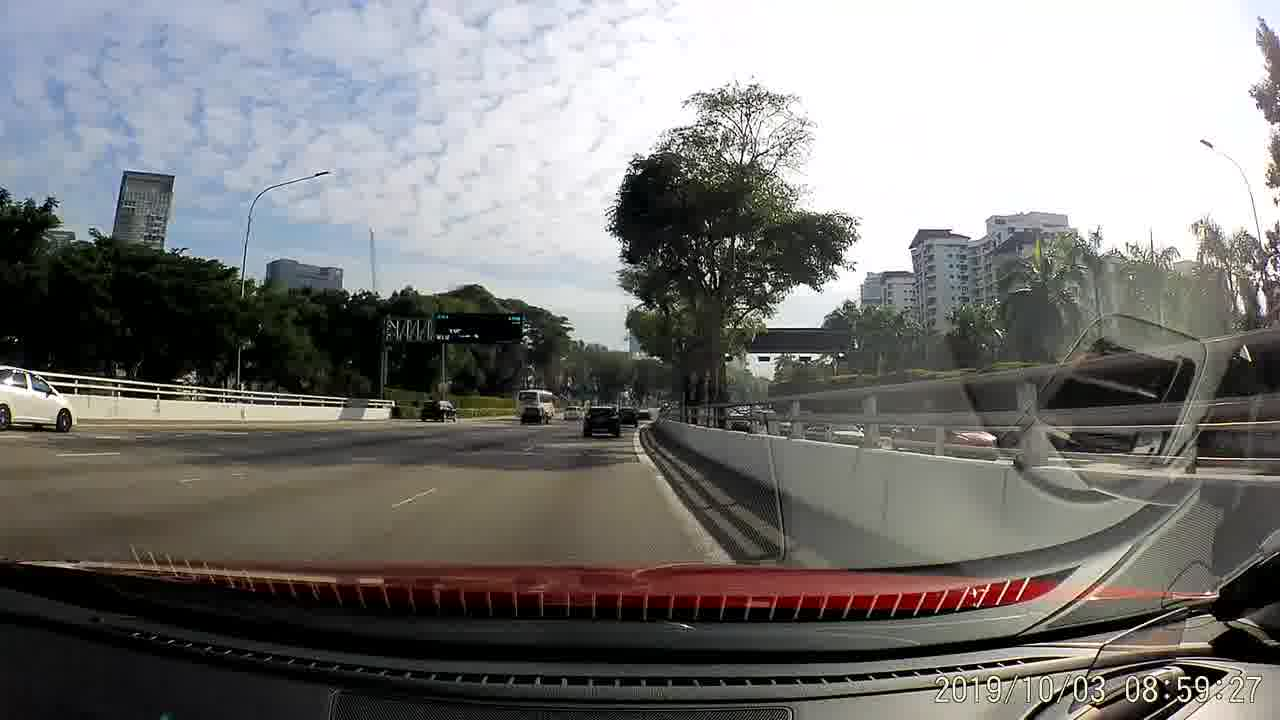car: (0, 360, 79, 435), (581, 402, 624, 437), (418, 397, 461, 423), (519, 407, 554, 426), (613, 406, 640, 427), (563, 402, 586, 422)
